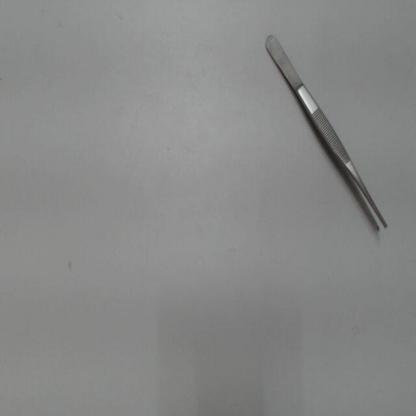Gillies Toothed Dissector: (257, 25, 398, 245)
